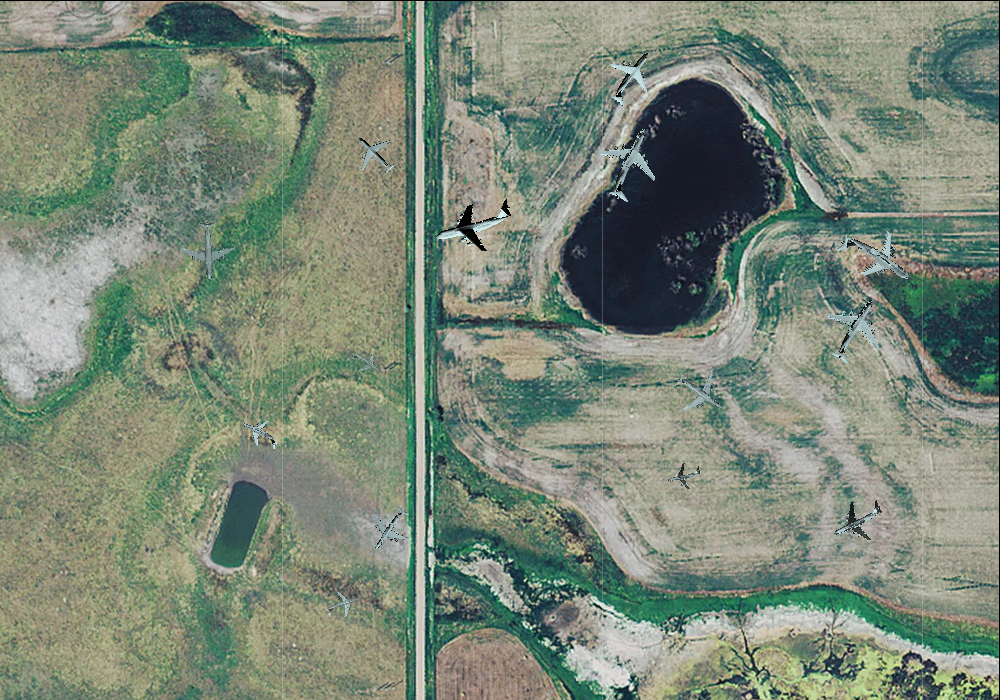plane: (824, 209, 926, 309), (582, 114, 678, 213), (809, 282, 902, 377), (426, 180, 520, 265), (592, 37, 671, 117), (662, 356, 736, 429), (823, 486, 892, 554), (357, 495, 422, 562), (343, 122, 406, 185), (179, 220, 236, 281), (234, 410, 285, 458), (343, 341, 388, 386), (321, 584, 365, 626), (665, 457, 704, 494)
